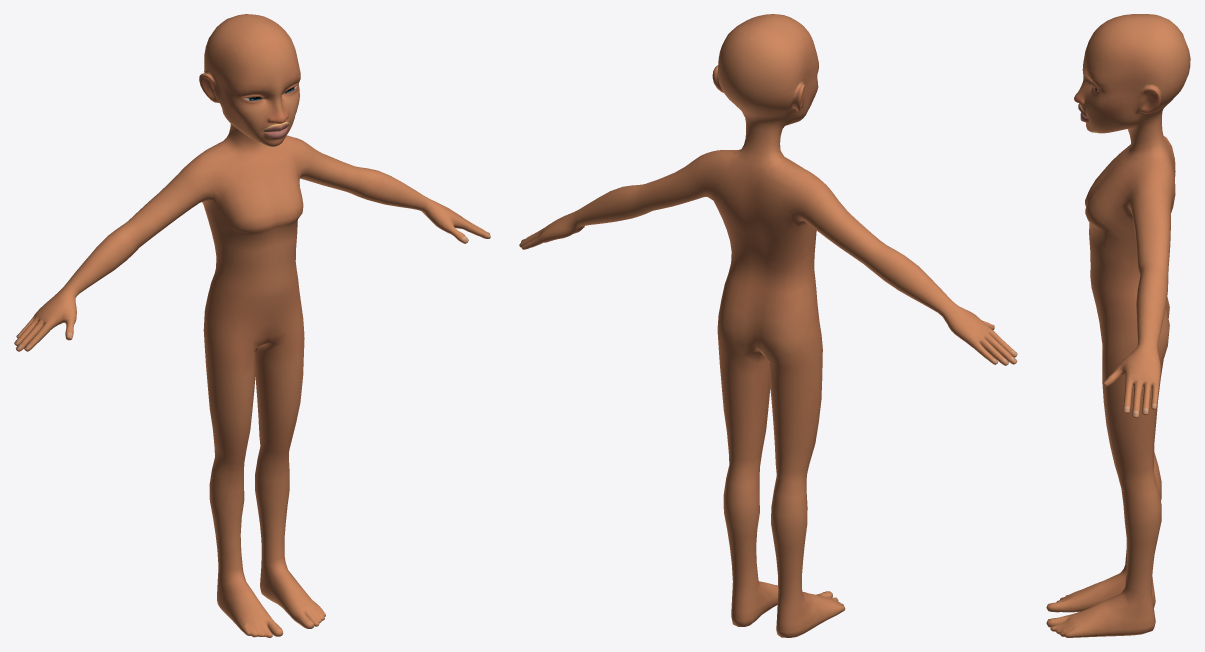
The model's file is frame_0080.glb.
3 renders of one model, left to right at view 1: azimuth 30°, elevation 25°; view 2: azimuth 150°, elevation 25°; view 3: azimuth 270°, elevation 25°, orthographic. The views are drawn at different scales.
Visible parts, largest first — view 1: frame_0080_head_geo; view 2: frame_0080_head_geo; view 3: frame_0080_head_geo.
Part boxes in pixels (<box>): frame_0080_head_geo: <box>14,14,490,637</box>; frame_0080_head_geo: <box>519,14,1017,637</box>; frame_0080_head_geo: <box>1046,14,1190,637</box>.
Size of the model in its own units: 1.28 by 1.5 by 0.3253.
3 materials, 3 textured.
